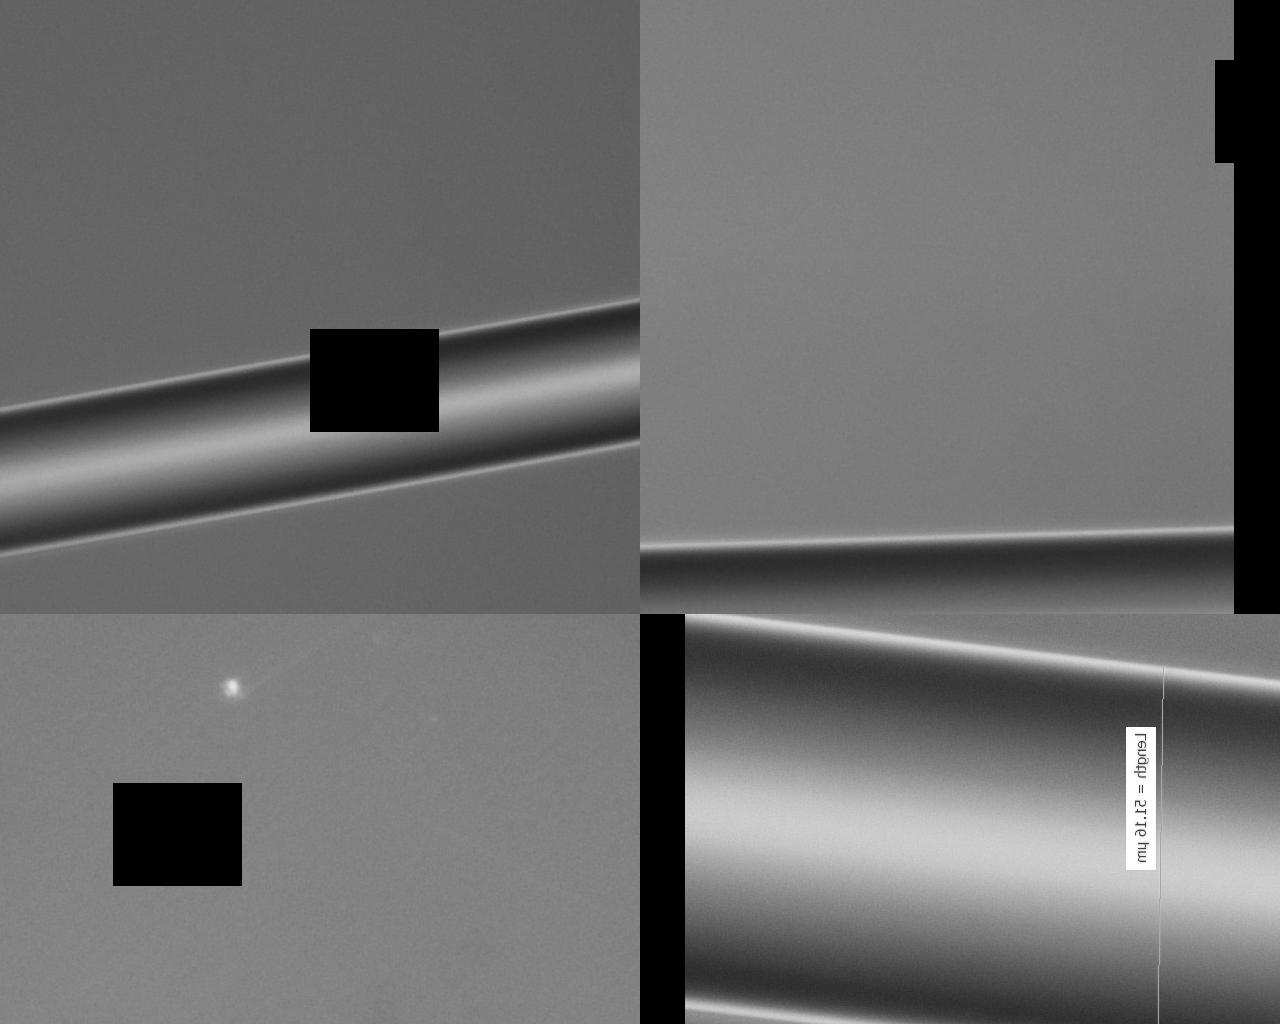fiber: (0, 544, 637, 645), (652, 138, 1156, 174)
